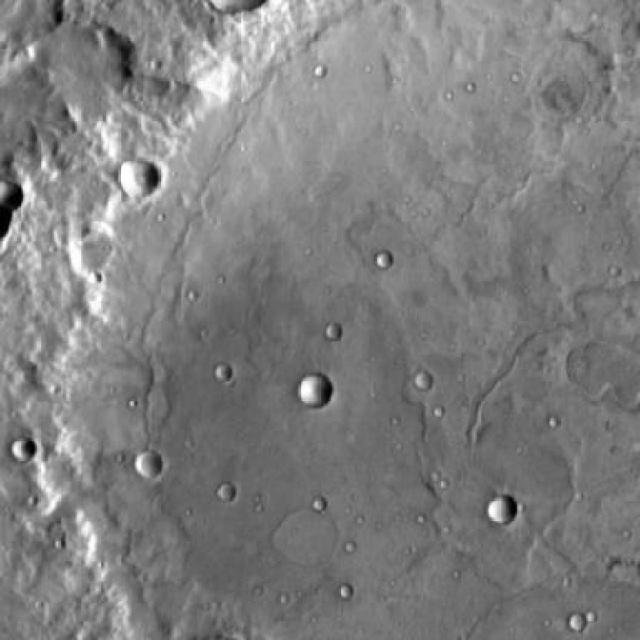crater: (275, 512, 336, 573), (116, 154, 159, 197), (296, 371, 335, 409), (490, 497, 521, 526), (133, 450, 161, 478), (14, 436, 32, 464), (216, 364, 233, 382), (416, 374, 433, 391), (372, 253, 390, 269), (572, 617, 588, 634), (219, 482, 236, 498), (336, 585, 352, 601), (327, 324, 339, 341), (312, 498, 326, 510), (632, 28, 640, 46)
